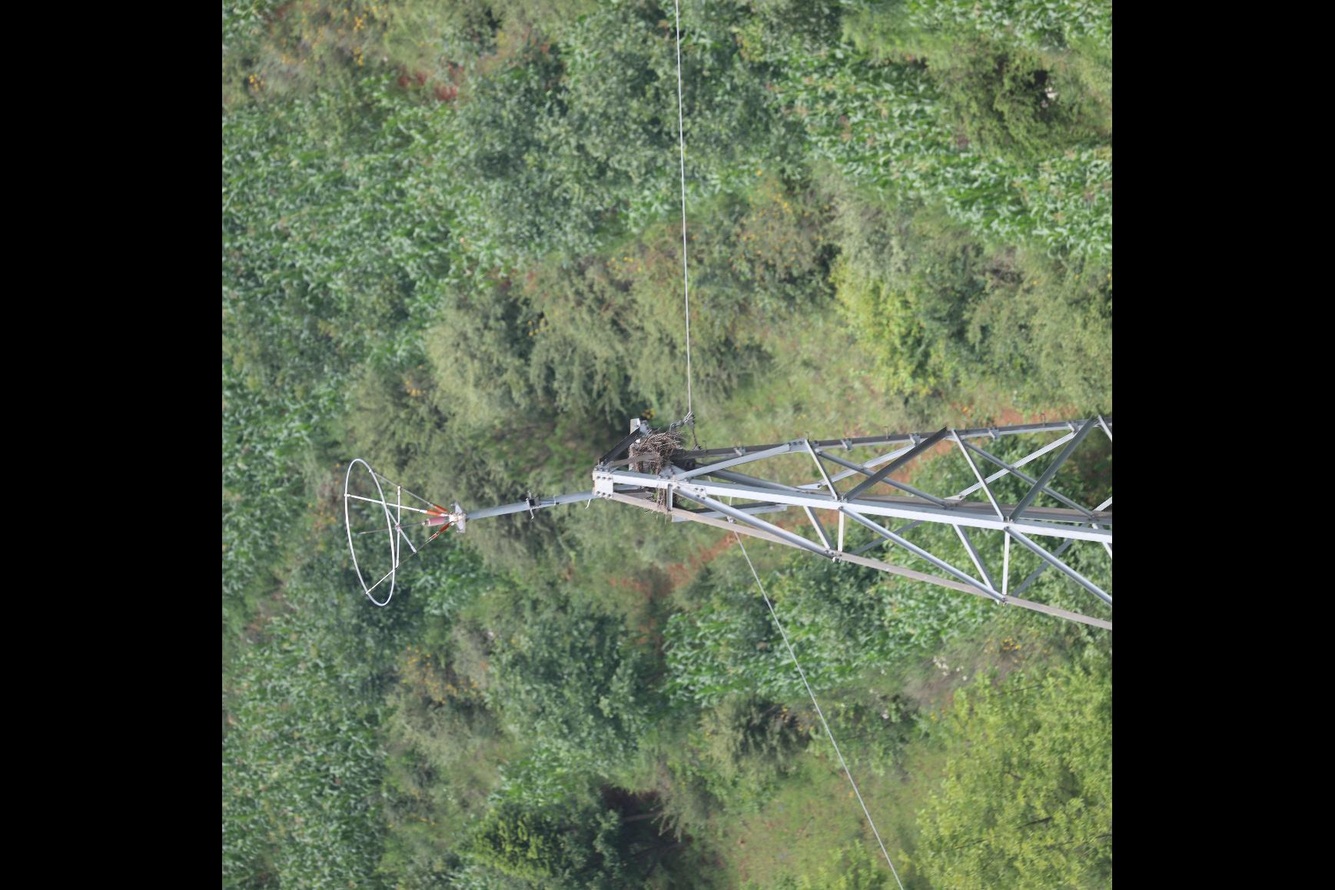nest: (628, 428, 681, 474)
